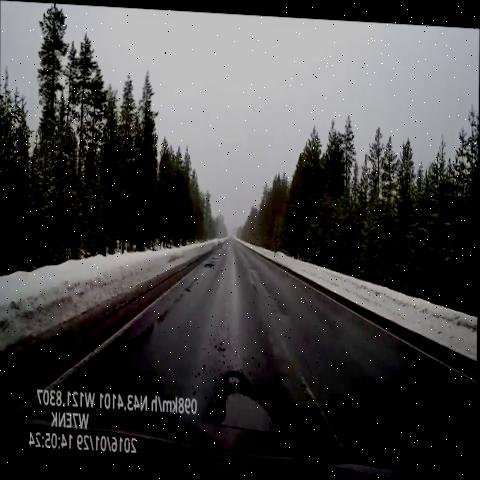pothole: (211, 360, 284, 445), (202, 244, 222, 280)
